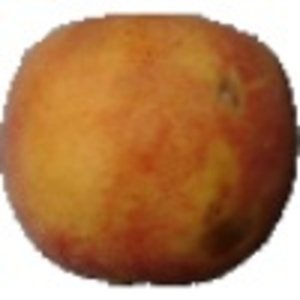pêssego: (1, 10, 300, 289)
